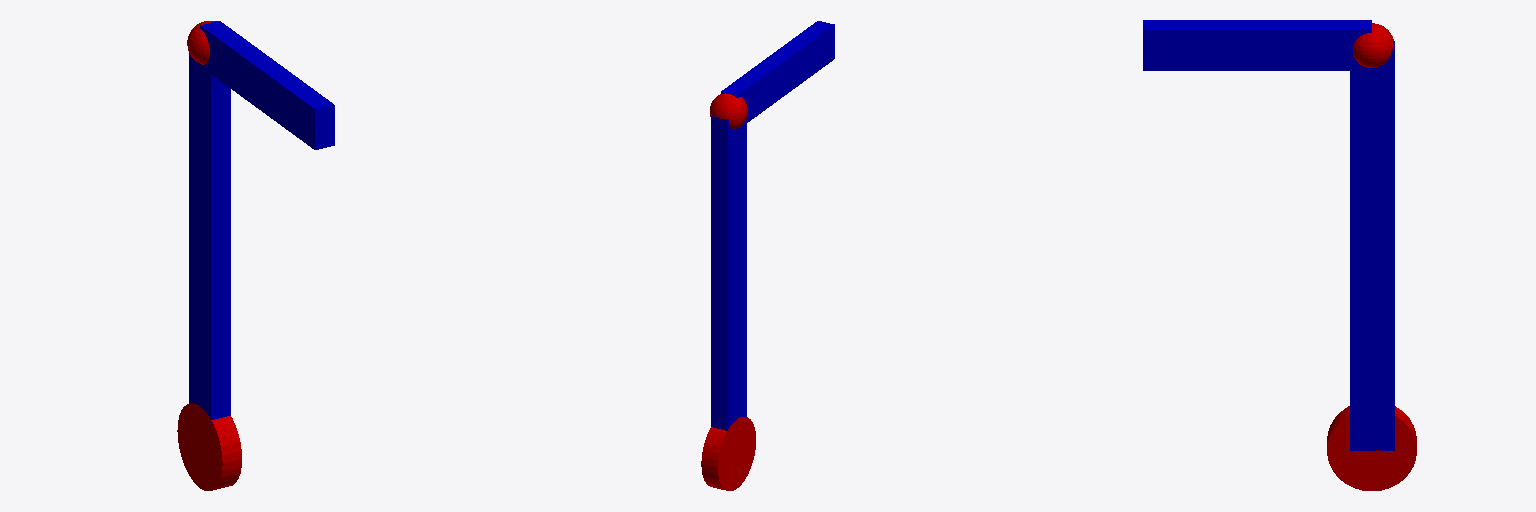
URDF robot description (TwoLinkStruct5504011990):
<?xml version="1.0"?>
<robot  name="TwoLinkStruct5504011990" >
 <material  name="blue" >
  <color  rgba="0 0 0.8 1.0" />
 </material>
 <material  name="red" >
  <color  rgba="0.8 0 0 1.0" />
 </material>
 <link  name="base_link" >
  <visual >
   <origin  rpy="0 1.5707 0"  xyz="0 0 0" />
   <material  name="red" />
   <geometry >
    <cylinder  length="0.05"  radius="0.1" />
   </geometry>
  </visual>
 </link>
 <joint  type="revolute"  name="joint1" >
  <parent  link="base_link" />
  <child  link="link1" />
  <origin  xyz="0 0 0"  rpy="0 0 0" />
  <axis  xyz="1 0 0" />
 </joint>
 <link  name="link1" >
  <inertial >
   <origin  rpy="0 0 0"  xyz="0 0 0.4899374500502694" />
   <mass  value="3.869101142767971" />
   <inertia  ixy="0.0"  iyy="0.0016121254761533213"  izz="0.31038407196344003"  ixz="0.0"  ixx="0.31038407196344003"  iyz="0.0" />
  </inertial>
  <visual >
   <origin  rpy="0 0 0"  xyz="0 0 0.4899374500502694" />
   <material  name="blue" />
   <geometry >
    <box  size="0.05 0.1 0.9798749001005388" />
   </geometry>
  </visual>
 </link>
 <joint  type="fixed"  name="joint-joint-1" >
  <parent  link="link1" />
  <child  link="joint-link-1" />
  <origin  xyz="0 0 0.9798749001005388"  rpy="1.5707 0 0" />
  <axis  xyz="1 0 0" />
 </joint>
 <link  name="joint-link-1" >
  <inertial >
   <origin  rpy="0 0 0"  xyz="0 0 0" />
   <mass  value="5.0" />
   <inertia  ixy="0"  iyy="0"  izz="0"  ixz="0"  ixx="0"  iyz="0" />
  </inertial>
  <visual >
   <origin  rpy="0 0 0"  xyz="0 0 0" />
   <material  name="red" />
   <geometry >
    <sphere  radius="0.05" />
   </geometry>
  </visual>
 </link>
 <joint  type="revolute"  name="joint2" >
  <parent  link="link1" />
  <child  link="link2" />
  <origin  xyz="0 0 0.9798749001005388"  rpy="1.5707 0 0" />
  <axis  xyz="1 0 0" />
 </joint>
 <link  name="link2" >
  <inertial >
   <origin  rpy="0 0 0"  xyz="0 0 0.254213580953468" />
   <mass  value="1.1552252204672304" />
   <inertia  ixy="0.0"  iyy="0.0016121254761533213"  izz="0.0841523627077368"  ixz="0.0"  ixx="0.0841523627077368"  iyz="0.0" />
  </inertial>
  <visual >
   <origin  rpy="0 0 0"  xyz="0 0 0.254213580953468" />
   <material  name="blue" />
   <geometry >
    <box  size="0.05 0.1 0.508427161906936" />
   </geometry>
  </visual>
 </link>
 <joint  type="fixed"  name="eef_joint" >
  <parent  link="link2" />
  <child  link="eef" />
  <origin  xyz="0 0 0.508427161906936"  rpy="0 0 0" />
 </joint>
 <link  name="eef" >
  <inertial >
   <origin  rpy="0 0 0"  xyz="0 0 0" />
   <mass  value="1" />
   <inertia  ixy="0"  iyy="0"  izz="0"  ixz="0"  ixx="0"  iyz="0" />
  </inertial>
 </link>
 <transmission  name="motor1" >
  <type  xmltext="SimpleTransmission" >
   SimpleTransmission
  </type>
  <actuator  name="motor1" >
   <mechanicalreduction  xmltext="1" >
    1
   </mechanicalreduction>
  </actuator>
  <joint  name="joint1" />
 </transmission>
 <transmission  name="motor2" >
  <type  xmltext="SimpleTransmission" >
   SimpleTransmission
  </type>
  <actuator  name="motor2" >
   <mechanicalreduction  xmltext="1" >
    1
   </mechanicalreduction>
  </actuator>
  <joint  name="joint2" />
 </transmission>
</robot>

<!-- {'carti': array([-0.1 ,  0.14,  0.85]), 'cartd': array([-0.1 ,  0.32,  1.29]), 'tau_mu': 1.0, 'b0': 0.3984143806995509, 'Km': 5.0, 'k_velocity': 0.01, 'tau_max_m': 3.7169643732883797, 'omega_max_m': 1000.0, 'gear_ratio': 25.0, 'Kp': 70.18107926817603, 'Kd': 100.0, 'm_m': 5.0, 'l1': 0.9798749001005388, 'l2': 0.508427161906936, 'k1': 1000.0, 'k2': 1000.0, 'k3': 1000.0}-->

--- Render facts (derived) ---
Views: 3 orthographic renders of the robot side by side, from view 1: azimuth 30°, elevation 25°; view 2: azimuth 150°, elevation 25°; view 3: azimuth 270°, elevation 25°.
Robot: TwoLinkStruct5504011990 — 5 links, 4 joints (2 revolute, 2 fixed); root link base_link; default pose: every joint at zero.
Links seen in each view (by area): view 1: link1, link2, base_link, joint-link-1; view 2: link1, link2, base_link, joint-link-1; view 3: link1, link2, base_link, joint-link-1.
Boxes of the visible links, bbox=[...] form: link1: bbox=[189, 53, 230, 419]; link2: bbox=[200, 21, 334, 149]; base_link: bbox=[177, 403, 241, 490]; joint-link-1: bbox=[187, 21, 214, 64]; link1: bbox=[711, 115, 746, 430]; link2: bbox=[721, 21, 834, 125]; base_link: bbox=[701, 417, 755, 490]; joint-link-1: bbox=[710, 93, 747, 128]; link1: bbox=[1350, 41, 1394, 450]; link2: bbox=[1143, 20, 1371, 70]; base_link: bbox=[1327, 406, 1416, 490]; joint-link-1: bbox=[1353, 23, 1394, 67].
Size in the robot's own frame: 0.1 by 0.6084 by 1.13 metres.
Geometry: primitives only (box / cylinder / sphere), no mesh files.
